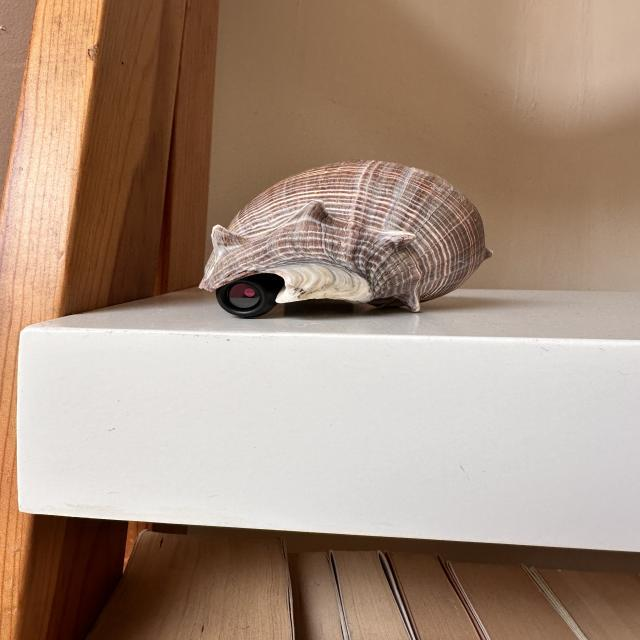hidden camera: (215, 280, 268, 318)
